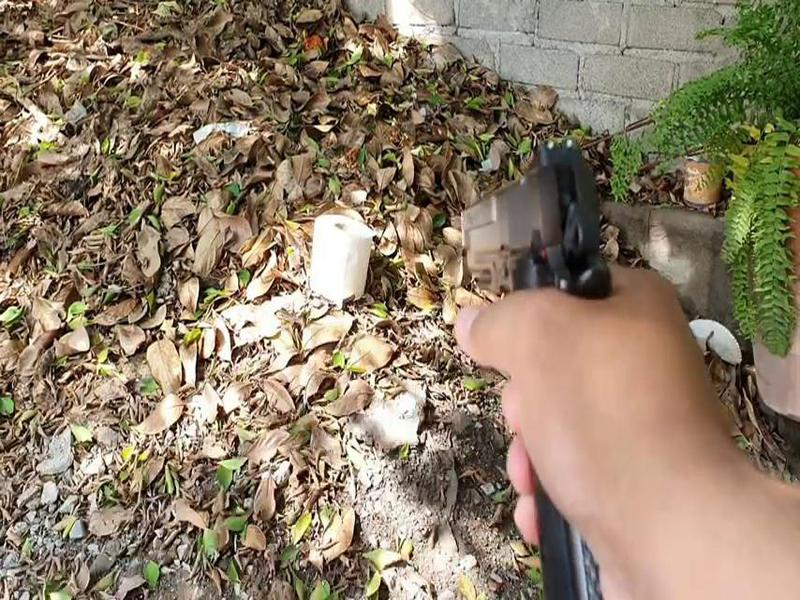Pistola: (437, 142, 632, 344)
